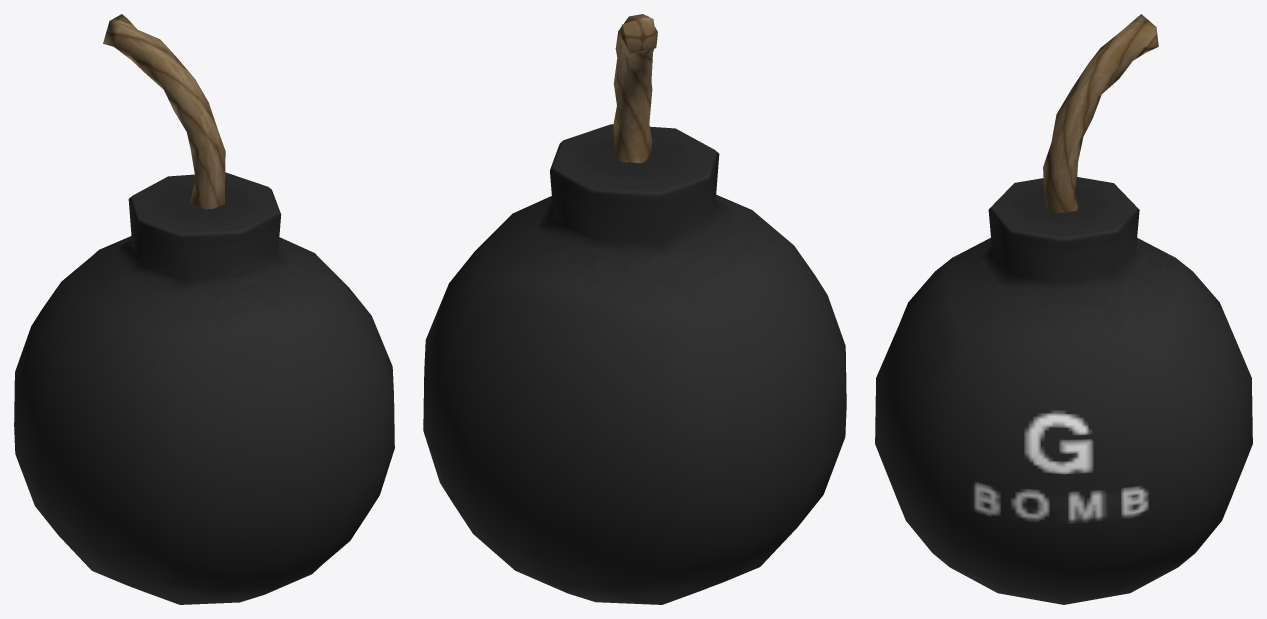
The model's file is bomb.obj.
3 renders of one model, left to right at view 1: azimuth 30°, elevation 25°; view 2: azimuth 150°, elevation 25°; view 3: azimuth 270°, elevation 25°, orthographic. The views are drawn at different scales.
Visible parts, largest first — view 1: Meshesdynamite1; view 2: Meshesdynamite1; view 3: Meshesdynamite1.
Part boxes in pixels (<box>): Meshesdynamite1: <box>14,14,394,604</box>; Meshesdynamite1: <box>423,14,846,604</box>; Meshesdynamite1: <box>875,14,1252,604</box>.
Size of the model in its own units: 12.72 by 20.3 by 12.72.
1 material, 1 textured.
